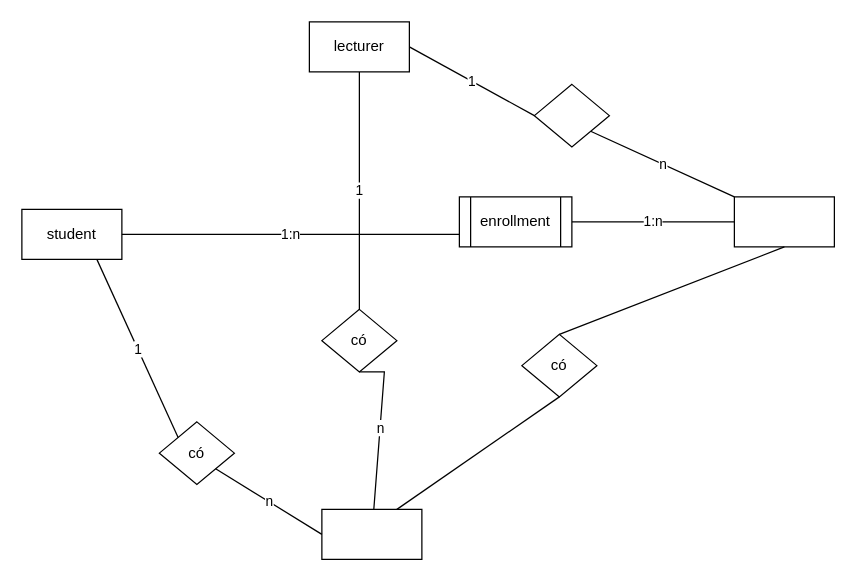
Image size: 856x581. Some labels were removed from this diagram. The centre of each missing label's shape, as x and y in pixels:
"class" belongs at [371,533].
"dạy" belongs at [571,115].
"subject" belongs at [783,221].
